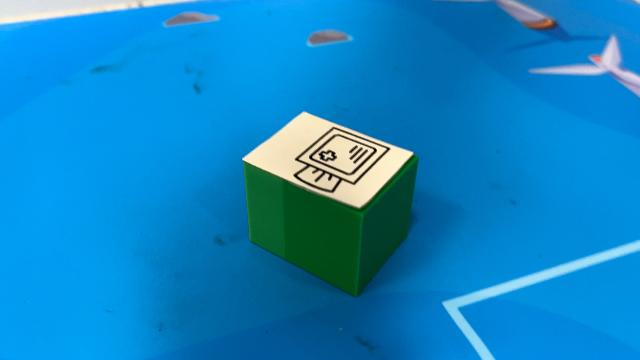napkin: (240, 108, 420, 298)
